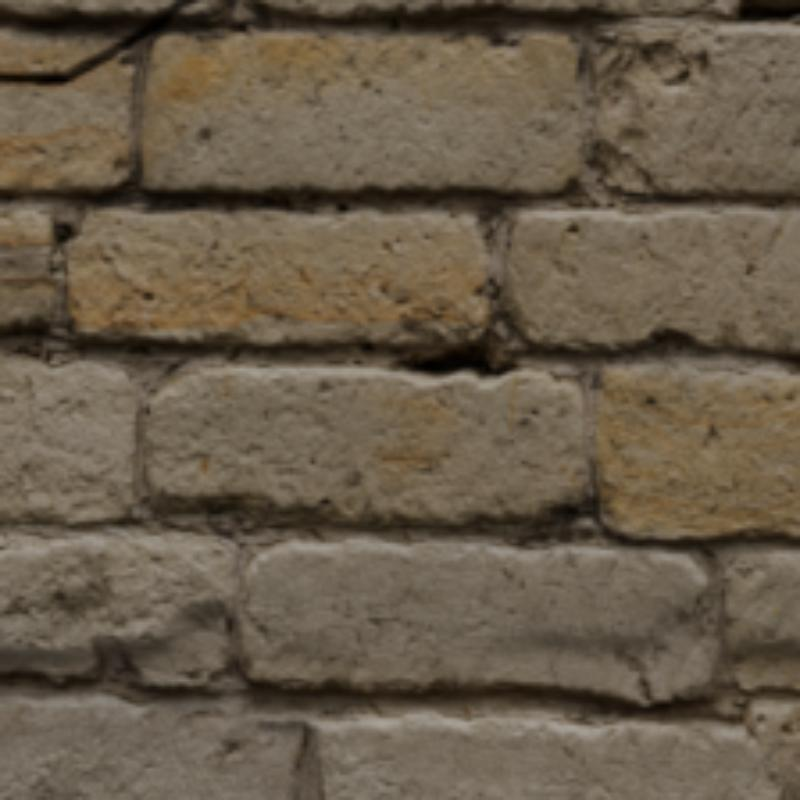crack: (0, 0, 193, 79), (411, 350, 511, 375), (743, 0, 796, 18)
